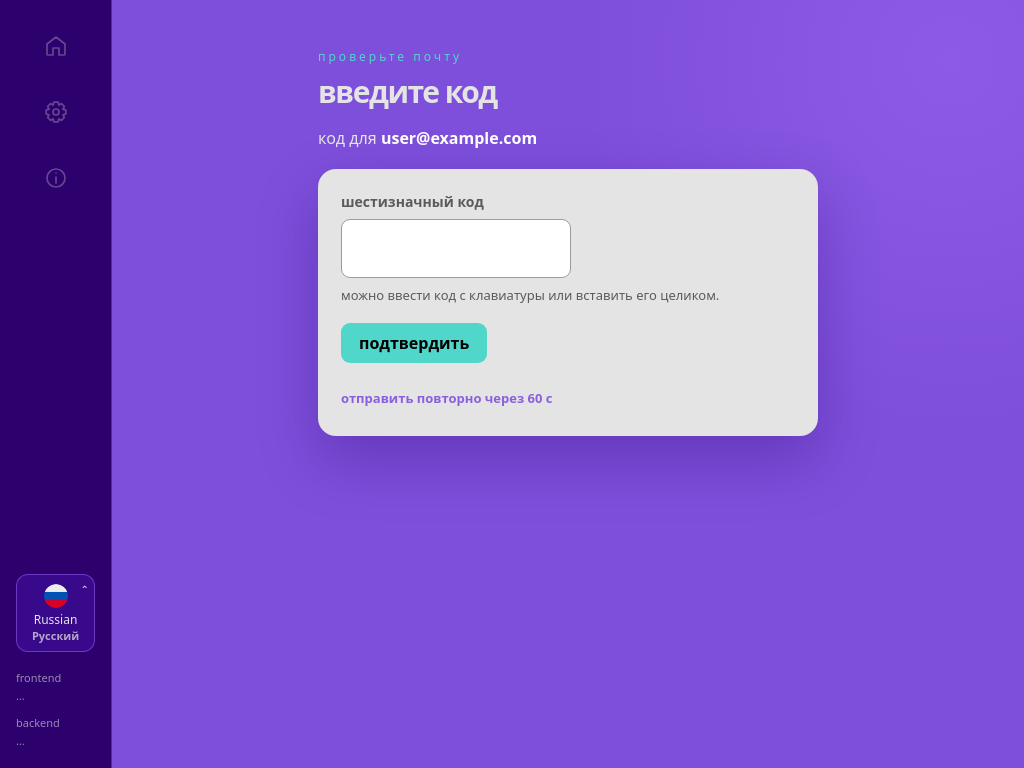
Test: OTP verification component › shows one safe message for an invalid OTP
Step 1. Type "123456" into the field labelled "Шестизначный код" → (456, 248), box left=341, top=219, right=571, bottom=278
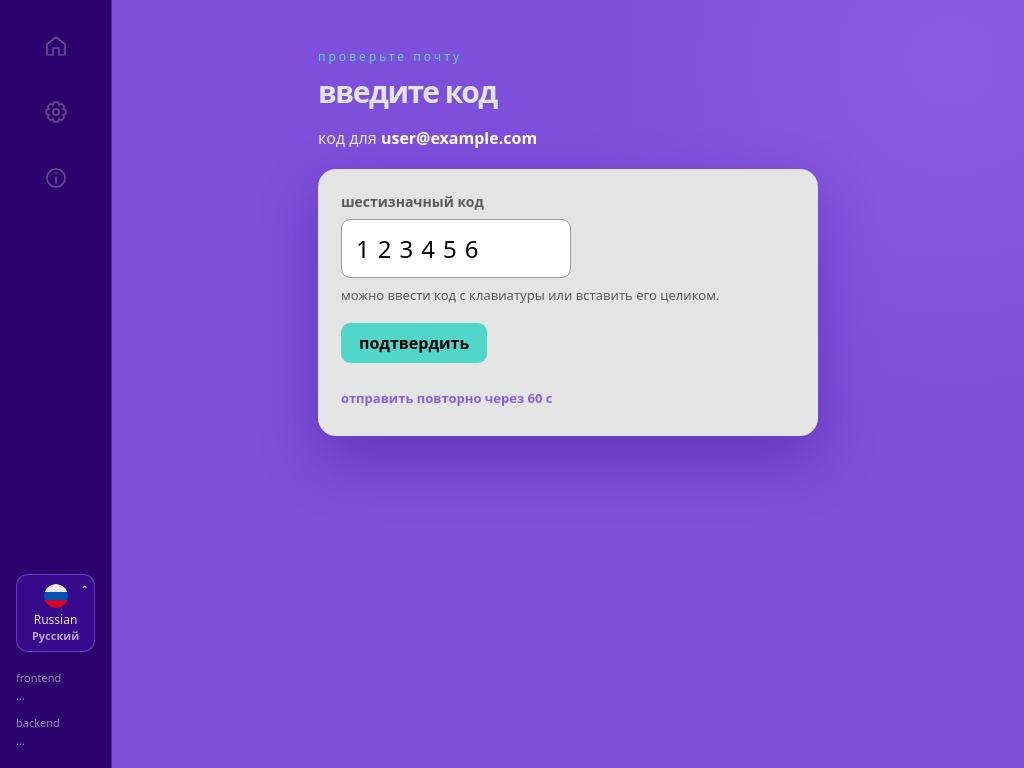
Step 2. Click the button "подтвердить" → (414, 343), box left=341, top=323, right=487, bottom=363
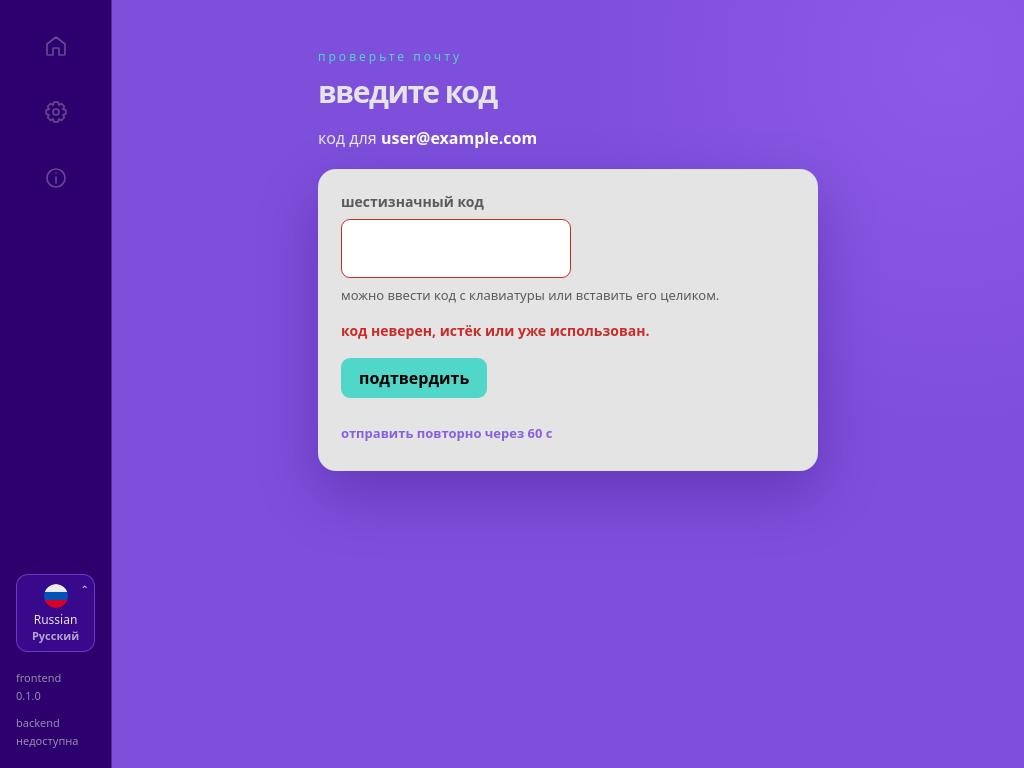
Check: the message reads "Код неверен, истёк или уже использован.", box left=341, top=321, right=649, bottom=340
Check: the field labelled "Шестизначный код" is empty, box left=341, top=219, right=571, bottom=278
